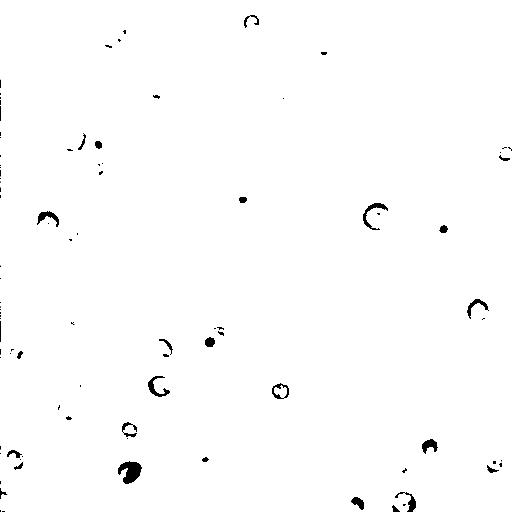micro-algae: (381, 41, 476, 138), (243, 90, 328, 173), (284, 2, 355, 72), (370, 124, 418, 178), (33, 272, 83, 322), (94, 381, 142, 430), (126, 467, 173, 512), (0, 85, 35, 132), (186, 325, 228, 362), (54, 312, 93, 347), (1, 14, 21, 81), (89, 0, 142, 23), (396, 455, 431, 489), (361, 202, 393, 232), (252, 352, 282, 382), (474, 448, 507, 475), (31, 210, 60, 239), (56, 396, 85, 425), (429, 216, 459, 244), (314, 40, 346, 65), (114, 459, 142, 487), (90, 165, 119, 191), (276, 216, 301, 246), (114, 18, 142, 44), (84, 131, 110, 158), (94, 35, 122, 60), (59, 128, 86, 153), (62, 221, 89, 246), (147, 373, 174, 398), (336, 304, 362, 328), (158, 479, 182, 505), (148, 336, 174, 359), (68, 365, 90, 392), (466, 298, 490, 322), (7, 343, 29, 369), (390, 490, 417, 511), (191, 448, 216, 470), (403, 254, 425, 277), (420, 436, 441, 458), (6, 449, 25, 472), (1, 489, 20, 512), (120, 420, 139, 441), (242, 13, 261, 33), (276, 87, 294, 107), (152, 502, 187, 512), (271, 384, 291, 400), (348, 496, 366, 512), (497, 145, 512, 162), (439, 65, 452, 81), (111, 0, 138, 7), (235, 194, 250, 206)
